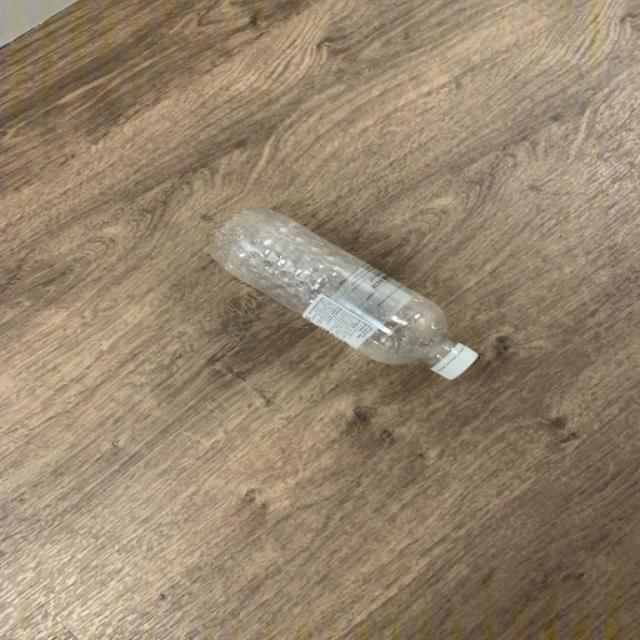bottle: (208, 209, 480, 381)
